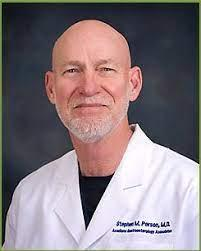Persons: (40, 6, 149, 149)
